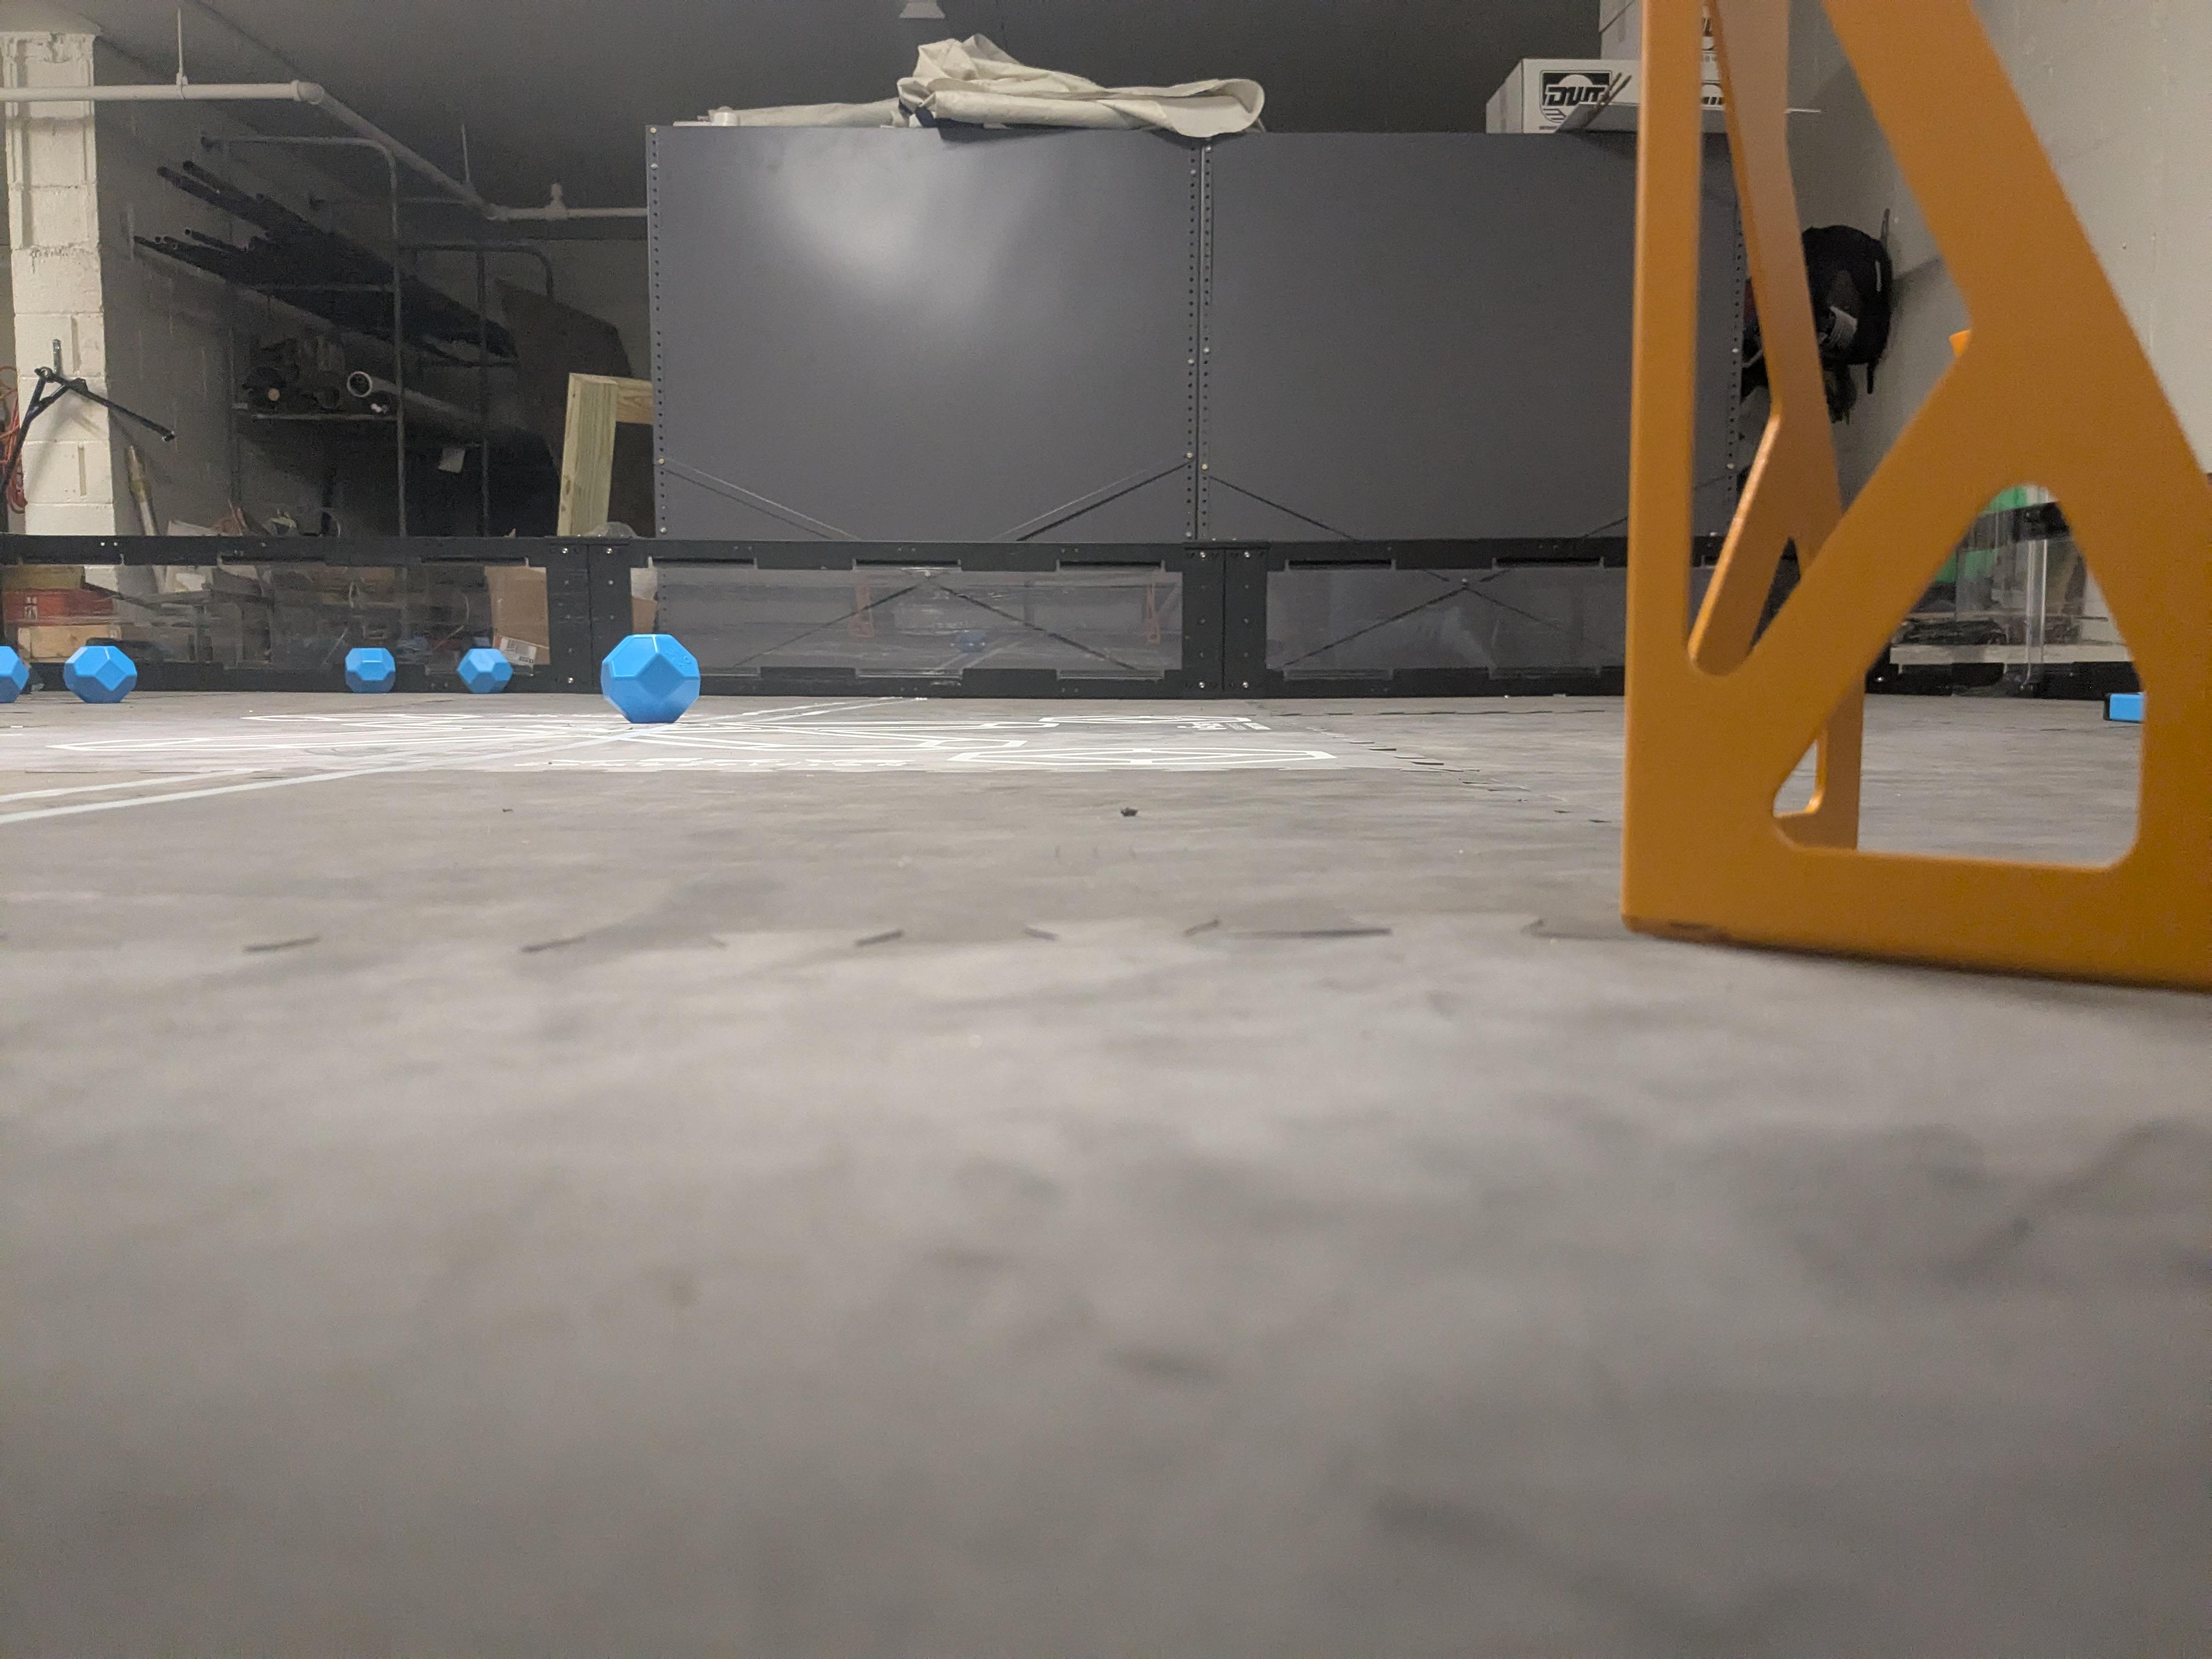Vex-Pieces-BLUE: (601, 634, 700, 723), (63, 645, 134, 702), (456, 647, 512, 694), (343, 647, 395, 694), (0, 645, 31, 704)
